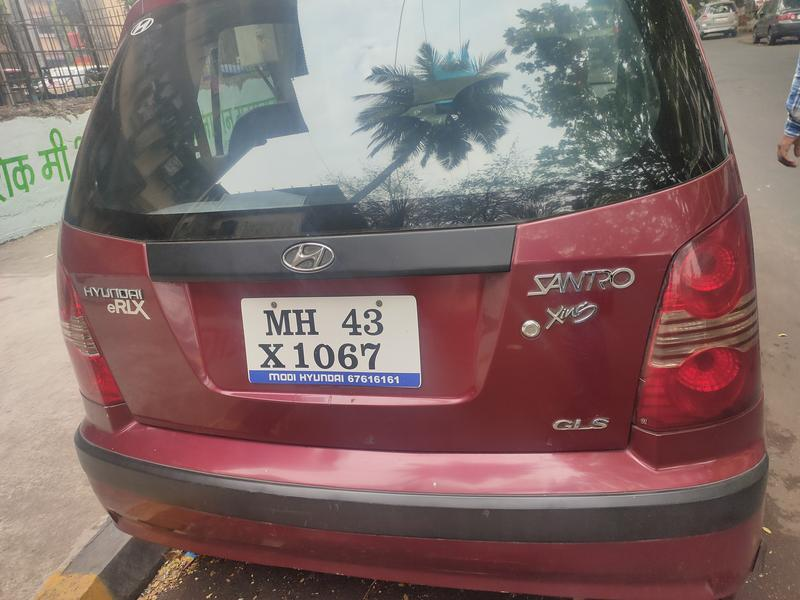license_plate: (233, 286, 434, 402)
